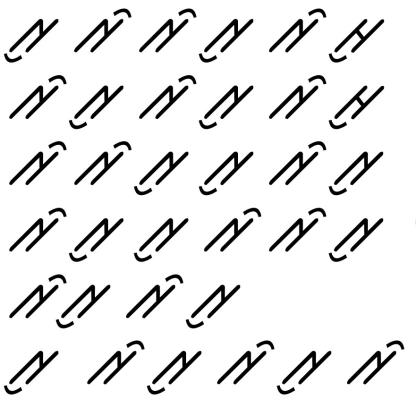waw: (147, 338, 203, 402), (2, 344, 61, 404), (277, 340, 332, 403), (186, 274, 245, 332), (326, 209, 386, 265), (200, 10, 257, 68), (329, 145, 389, 200), (68, 76, 128, 130), (198, 79, 254, 135), (3, 13, 60, 68), (132, 144, 188, 198), (67, 211, 124, 264), (131, 212, 190, 263), (197, 149, 257, 198), (57, 285, 110, 337)
way: (343, 336, 405, 394), (216, 335, 276, 392), (268, 202, 326, 260), (8, 203, 66, 261), (202, 202, 263, 257), (267, 3, 328, 58), (72, 136, 132, 190), (266, 136, 326, 190), (124, 269, 185, 322), (138, 6, 197, 59), (8, 136, 68, 188), (86, 338, 146, 388), (8, 72, 66, 123), (268, 73, 326, 124), (71, 7, 133, 54), (135, 74, 196, 121), (8, 273, 63, 320)
